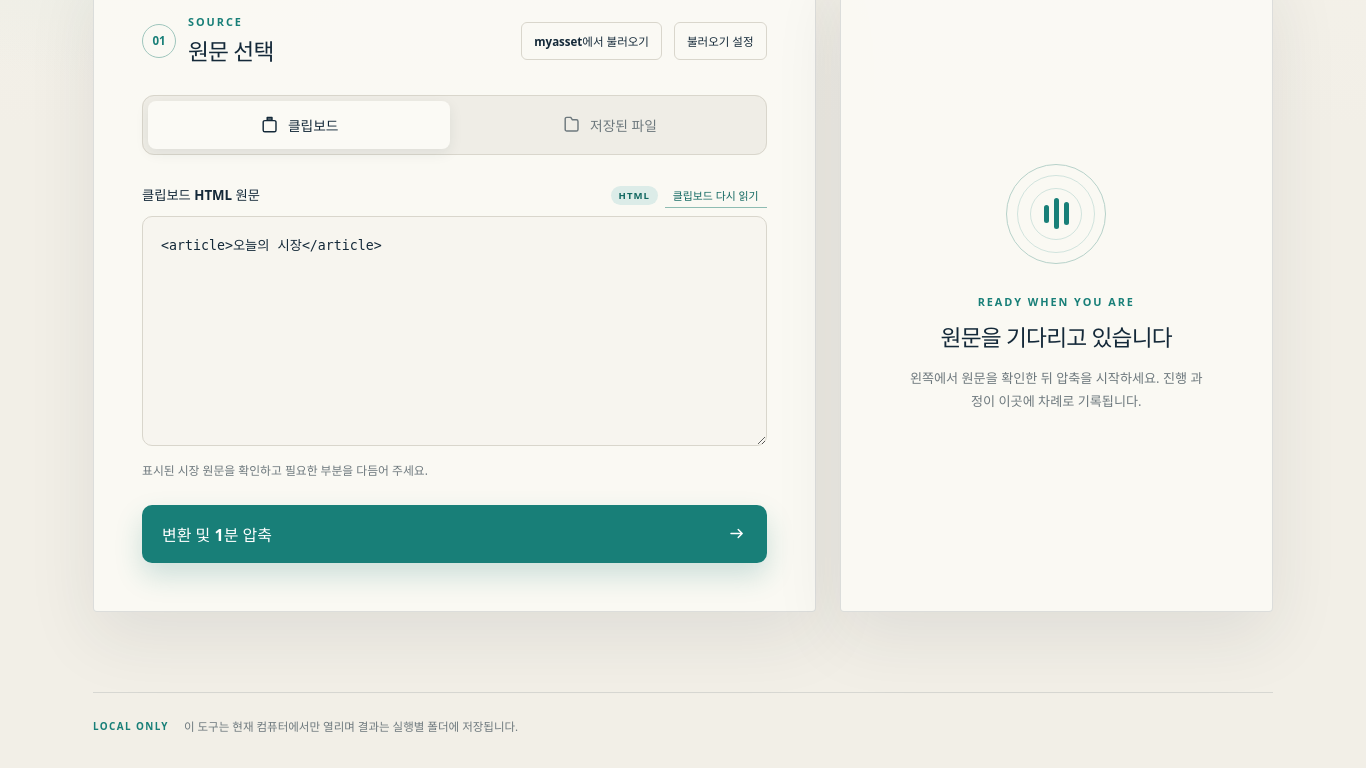
Scenario: App › 클립보드 작업을 한 번만 실행하고 완료될 때까지 폴링해 결과를 표시한다
The image size is (1366, 768).
(page scrolled)
Click the button "변환 및 1분 압축" at [217, 535], box top-left (142, 505), bottom-right (766, 563)
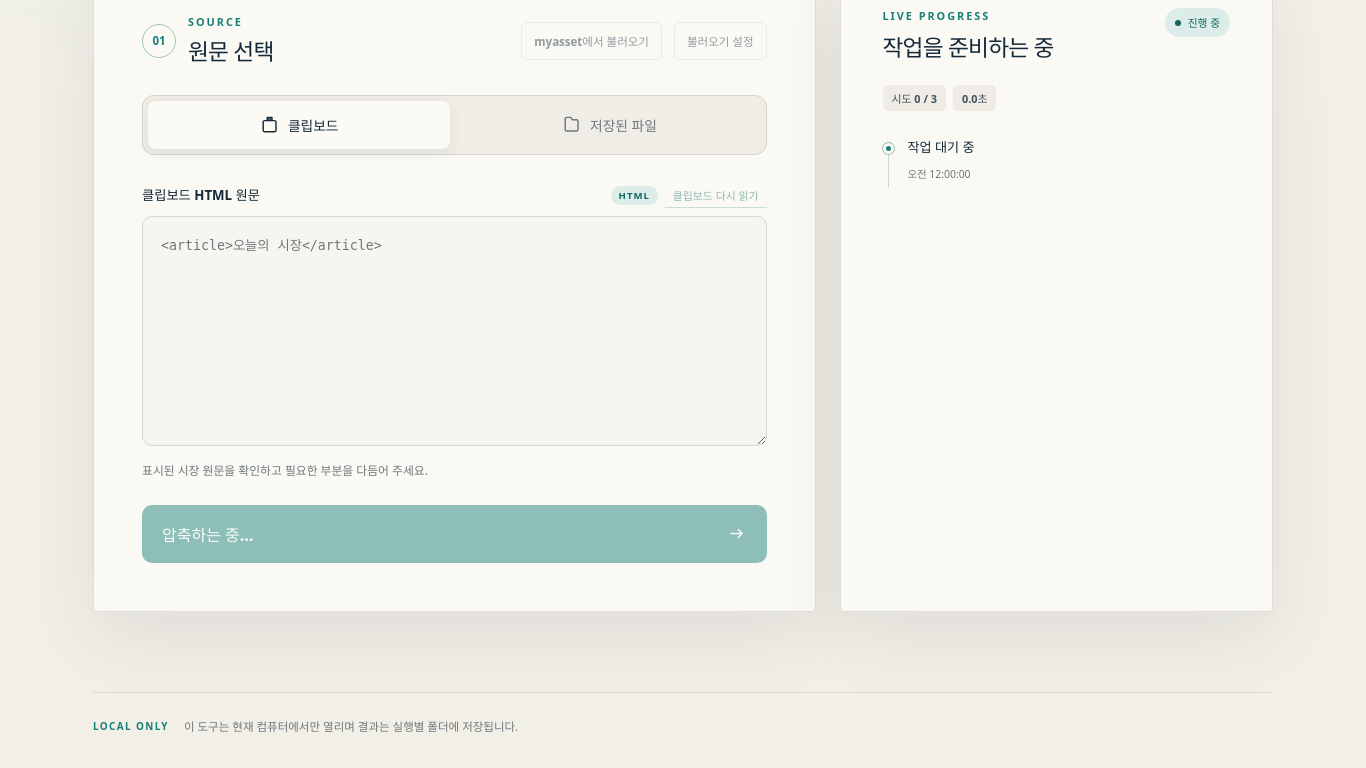
Click the button named "변환 및 1분 압축" at [208, 535], box top-left (142, 505), bottom-right (766, 563)
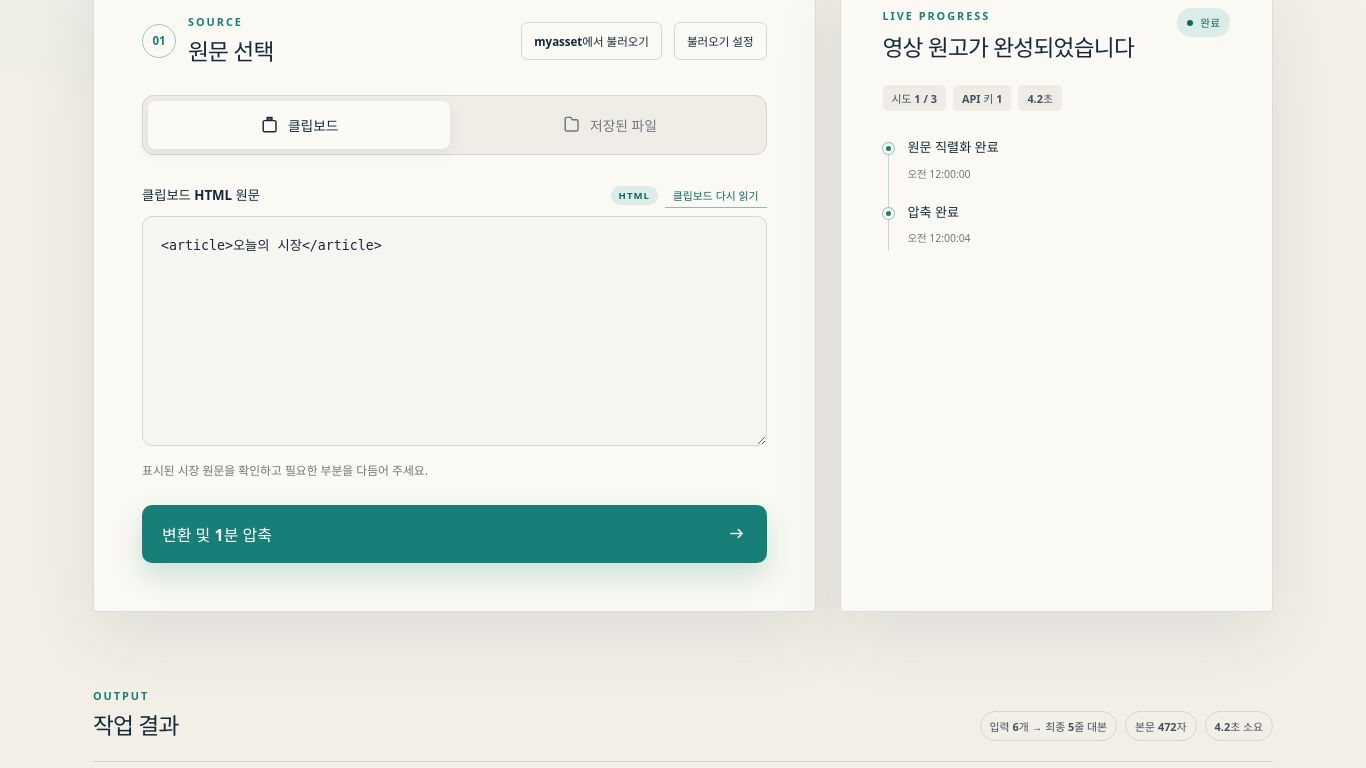
Now the text "입력 6개 → 최종 5줄 대본" is shown, box top-left (980, 711), bottom-right (1117, 741)
